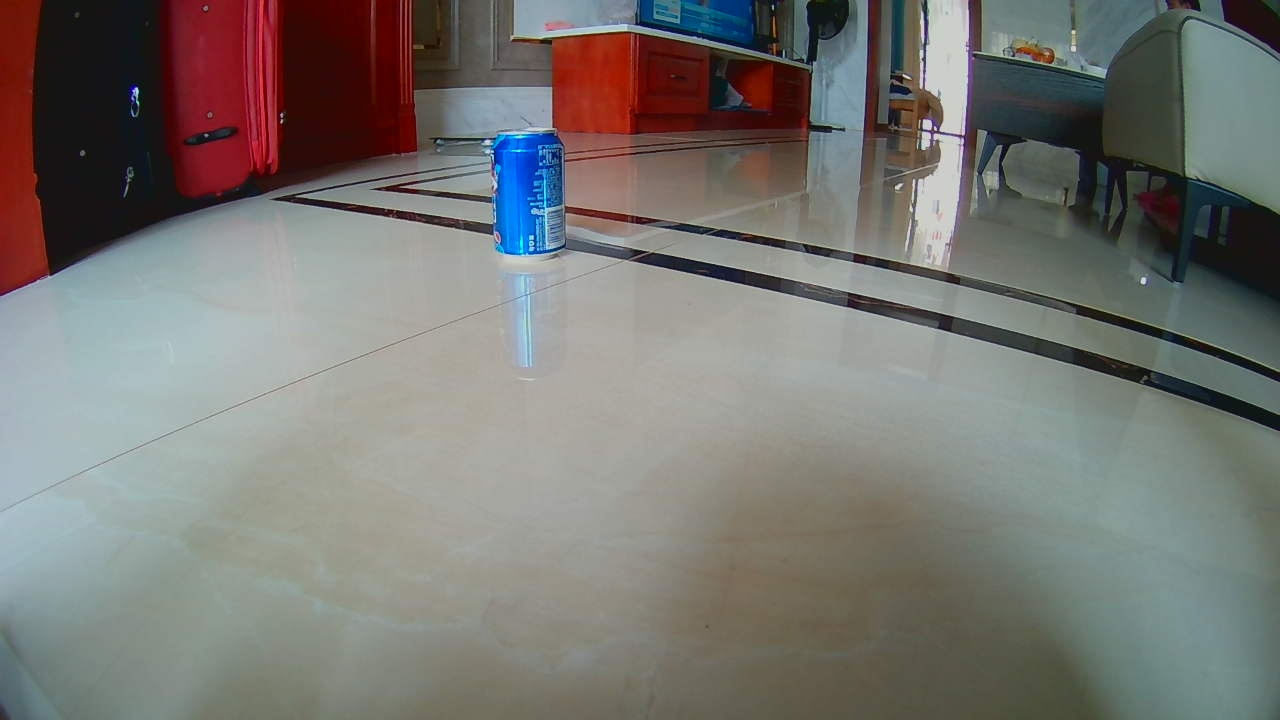pessi: (490, 127, 568, 260)
